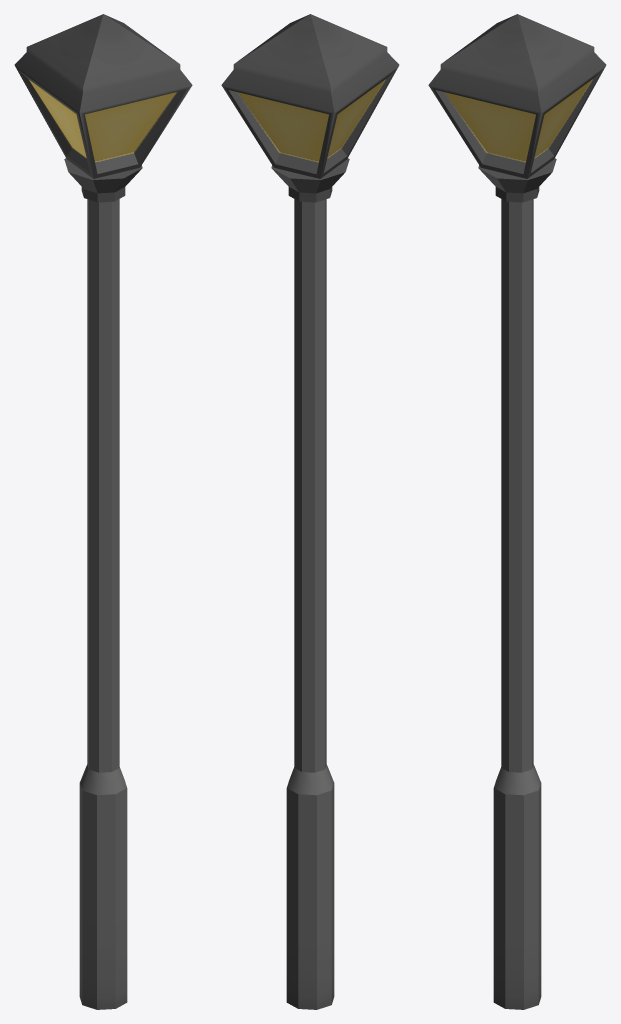
The model's file is streetlight01_single.fbx.
The picture shows the model from 3 angles, left to right: view 1: azimuth 30°, elevation 25°; view 2: azimuth 150°, elevation 25°; view 3: azimuth 330°, elevation 25°; orthographic projection.
Visible parts, largest first — view 1: lamp01_single1; view 2: lamp01_single1; view 3: lamp01_single1.
Part boxes in pixels (left/top/right/bottom): lamp01_single1: left=14, top=14, right=192, bottom=1009; lamp01_single1: left=221, top=14, right=399, bottom=1009; lamp01_single1: left=428, top=14, right=606, bottom=1009.
Size of the model in its own units: 0.7306 by 6.09 by 0.7306.
Materials: 1 (1 with a texture image).
